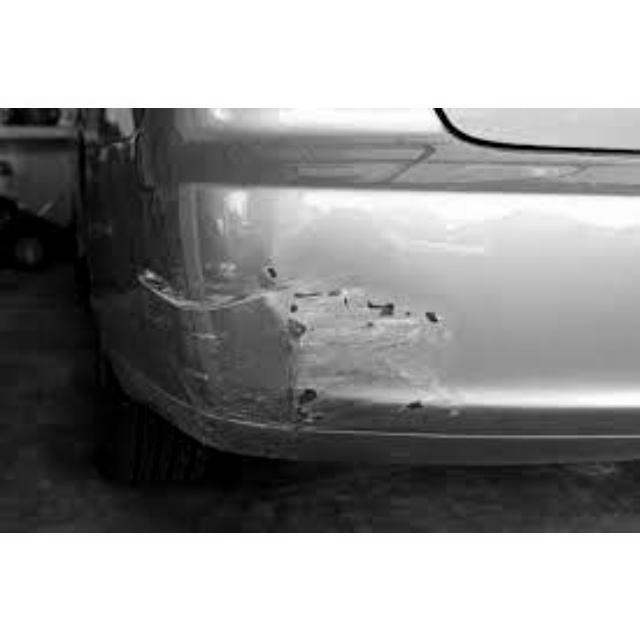rear-bumper-dent: (47, 166, 598, 491)
